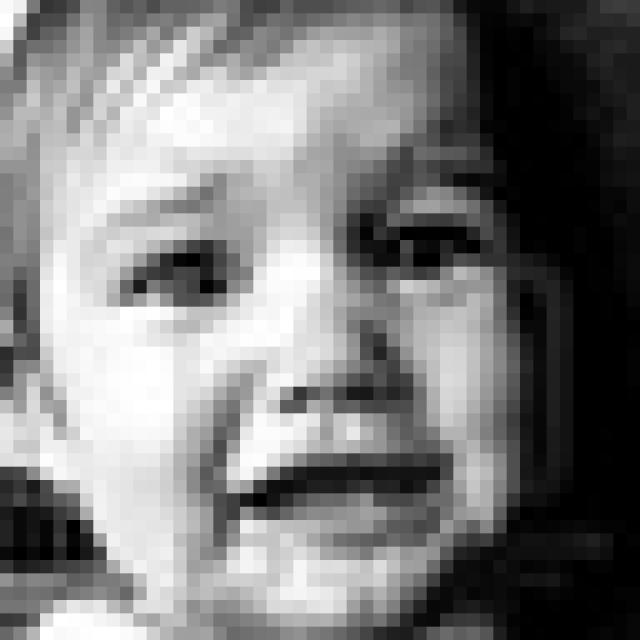fear: (88, 166, 507, 565)
